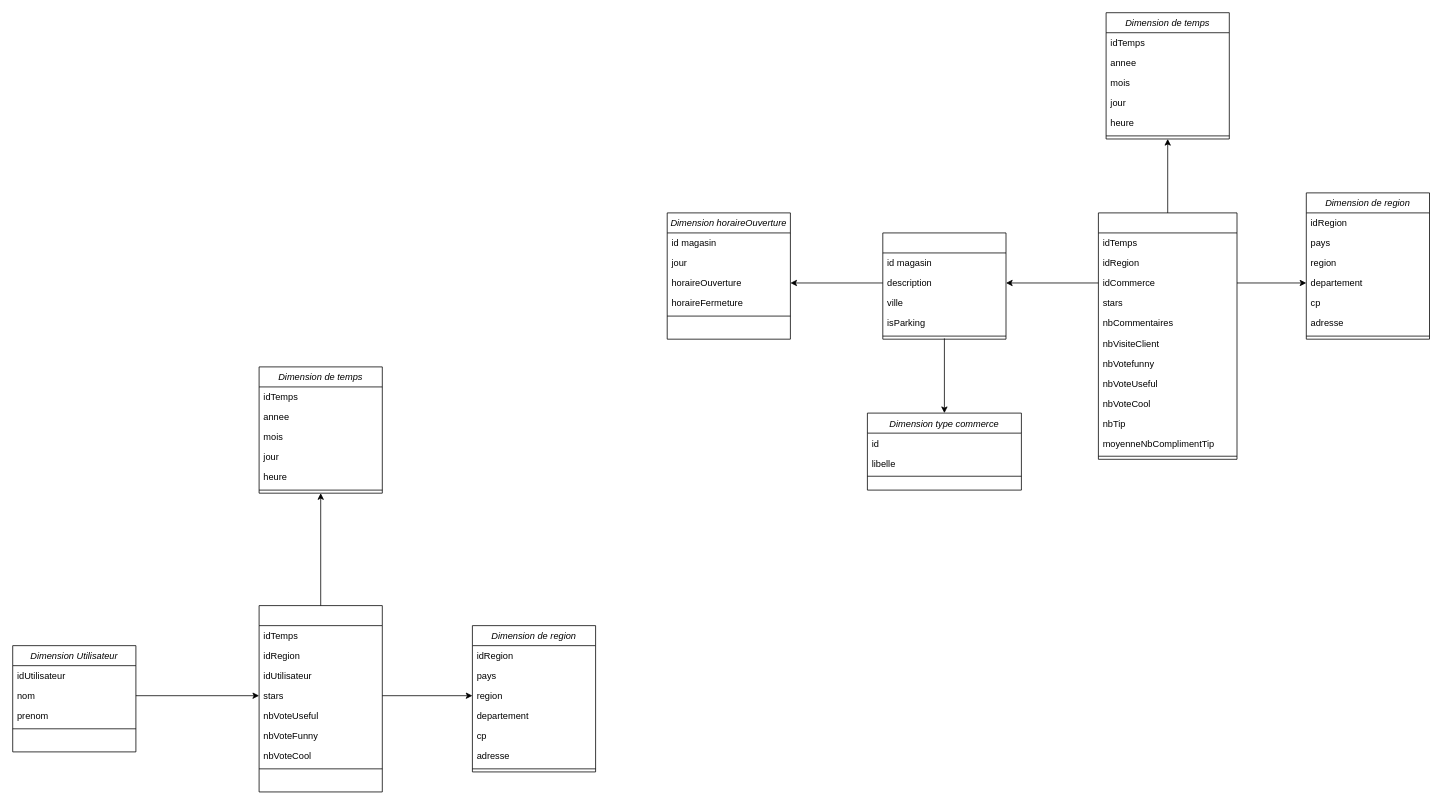
The diagram is 1442 pixels wide and 805 high, and some of its shapes have lost their labels. The box of each missing label's shape, as (x1, y1, x2, y2) in pixels:
Dimension Commerce: (882, 232, 1006, 339)
Table de fait: (1098, 212, 1237, 459)
Table de fait commentaire: (258, 605, 382, 792)
